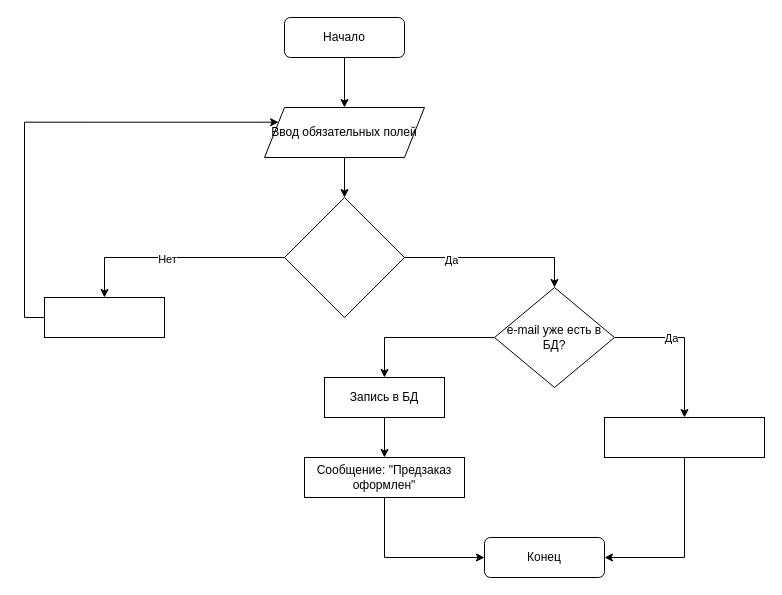
Some shapes in this 782 by 595 pixel diagram are drawn without their labels. The shapes that lost their labels are listed below. From the top down, each one's centre as x and y in pixels, then its label:
point (344, 257): Все обязательные поля корректны?
point (104, 317): Ошибка: "Заполните обязательные поля"
point (684, 437): Сообщение: "Предзаказ уже оформлен"
